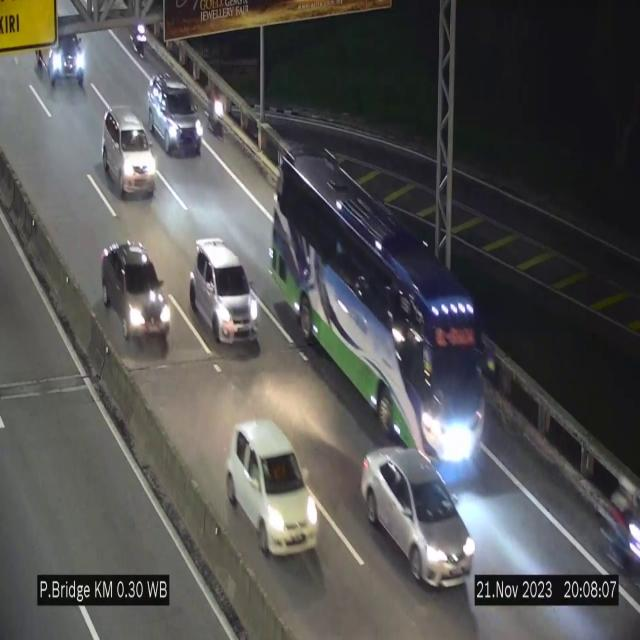Bus: (267, 138, 498, 470)
Car: (360, 448, 474, 586), (222, 410, 320, 562), (99, 238, 173, 356), (190, 239, 259, 346), (102, 106, 158, 197), (146, 72, 202, 155), (32, 31, 86, 83)
Motorcycle: (601, 473, 640, 573), (207, 77, 227, 141), (127, 21, 151, 63)
